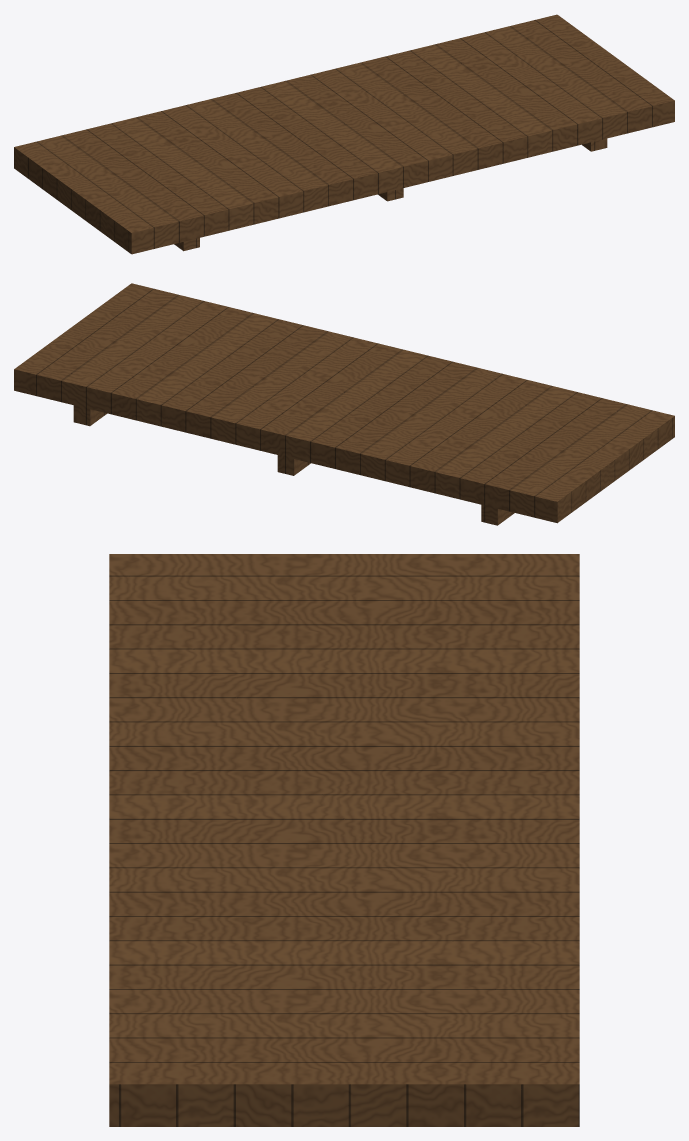
File: balcony_deck_4x1p5m.glb
3 views of the same model, one above another, from view 1: azimuth 30°, elevation 25°; view 2: azimuth 150°, elevation 25°; view 3: azimuth 270°, elevation 25° (orthographic). The views are drawn at different scales.
Visible parts, largest first — view 1: balcony_deck_4x1p5m_deck; view 2: balcony_deck_4x1p5m_deck, balcony_deck_4x1p5m_joist_+1.5, balcony_deck_4x1p5m_joist_+0.0, balcony_deck_4x1p5m_joist_-1.5; view 3: balcony_deck_4x1p5m_deck.
Part boxes in pixels (box(x1,y1,x2,y2)): balcony_deck_4x1p5m_deck: box(14, 14, 674, 254); balcony_deck_4x1p5m_deck: box(14, 283, 674, 523); balcony_deck_4x1p5m_joist_+1.5: box(73, 405, 106, 426); balcony_deck_4x1p5m_joist_+0.0: box(277, 455, 310, 475); balcony_deck_4x1p5m_joist_-1.5: box(481, 505, 514, 525); balcony_deck_4x1p5m_deck: box(109, 554, 579, 1126).
Size of the model in its own units: 4 by 0.27 by 1.5.
1 material, 1 textured.
